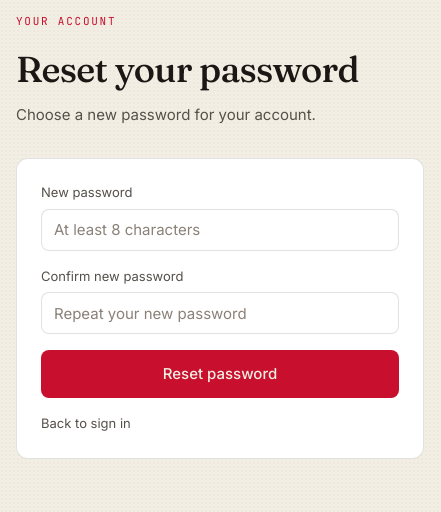
ResetPasswordPage › rejects mismatched passwords before contacting the server
The image size is (441, 512).
Step 1. Type "password123" into the password field labelled "New password" → coordinates (220, 230), box [41,208,399,250]
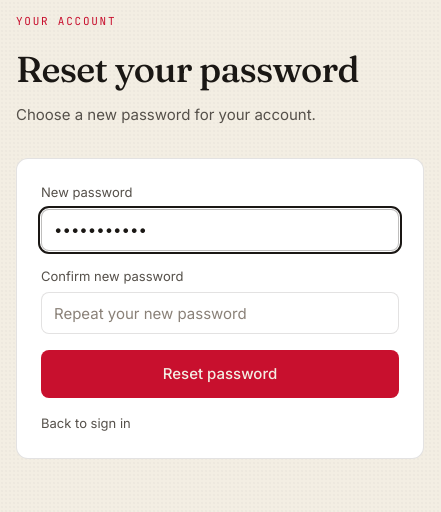
Step 2. Type "password456" into the password field labelled "Confirm new password" → coordinates (220, 313), box [41,292,399,334]
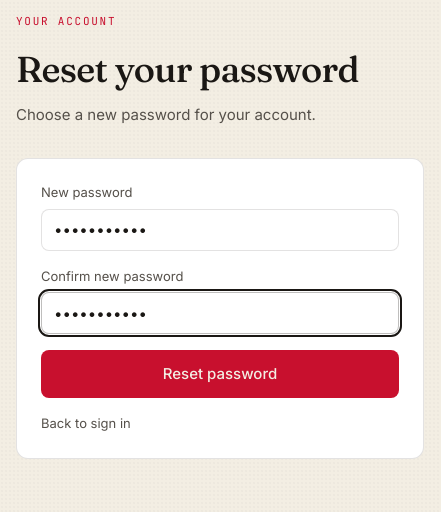
Step 3. Click the button "Reset password" → coordinates (220, 374), box [41,350,399,398]
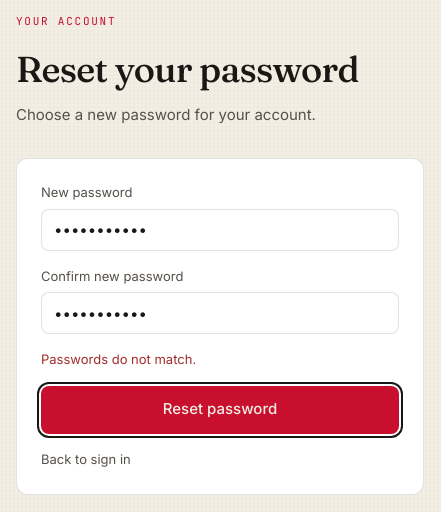
Expected: the text "Passwords do not match." is shown, [41,351,196,367]
